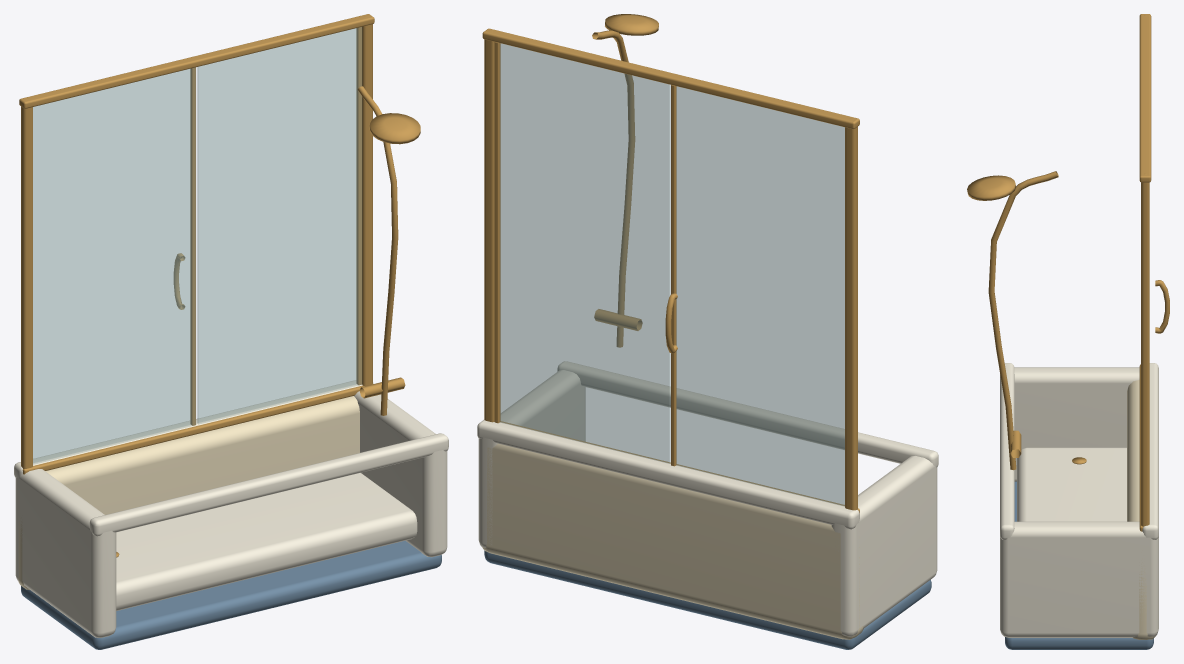
The model's file is bath_shower.glb.
3 views of the same model, side by side, from view 1: azimuth 30°, elevation 25°; view 2: azimuth 150°, elevation 25°; view 3: azimuth 270°, elevation 25° (orthographic). The views are drawn at different scales.
Parts seen in each view (by area): view 1: House07_bath_shower; view 2: House07_bath_shower; view 3: House07_bath_shower.
Part boxes in pixels (box(x1,y1,x2,y2)): House07_bath_shower: box(14, 14, 448, 649); House07_bath_shower: box(477, 14, 938, 649); House07_bath_shower: box(967, 14, 1169, 649).
Bounding box in the file's own units: 1.6 × 2.15 × 0.8298.
